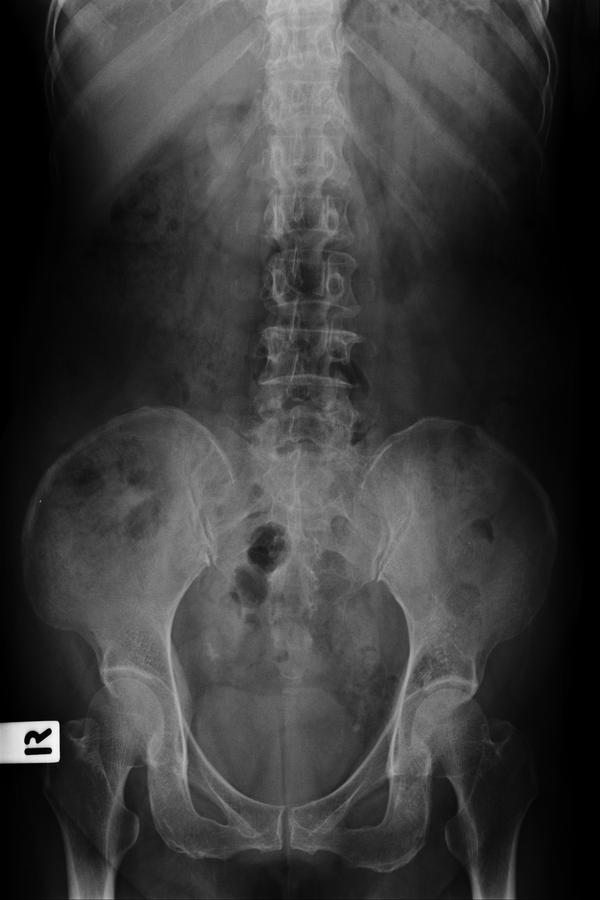not lumbar scoliosis: (242, 81, 368, 496)
